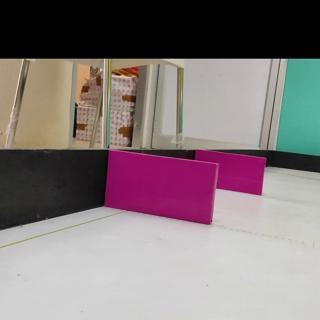xparking: (105, 150, 217, 225), (216, 153, 265, 196)
